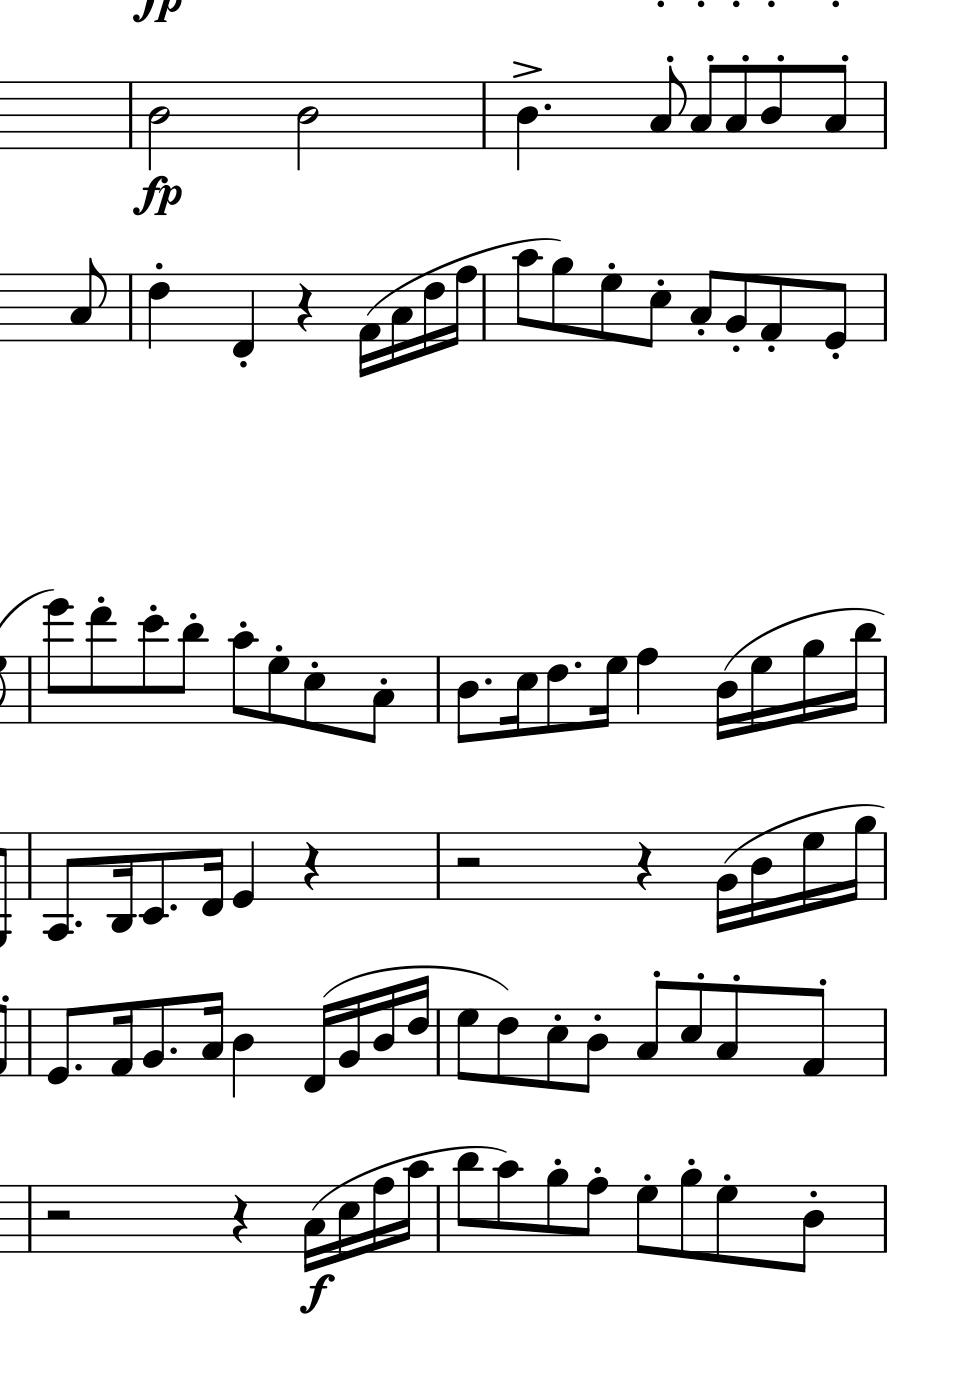16_-1: (301, 1001, 334, 1095), (199, 830, 224, 920)
16_-3: (107, 831, 135, 934)
16_1: (356, 271, 381, 379), (109, 1001, 134, 1080)
16_10: (398, 1158, 433, 1256)
16_11: (842, 621, 878, 727)
16_2: (713, 831, 737, 933), (336, 996, 362, 1078)
16_3: (388, 271, 413, 367), (199, 990, 224, 1077), (301, 1185, 325, 1271)
16_4: (747, 830, 772, 926), (371, 984, 396, 1078), (714, 655, 738, 741)
16_5: (501, 655, 537, 738), (336, 1185, 360, 1262)
16_6: (406, 975, 430, 1078), (421, 271, 445, 355)
16_7: (589, 654, 628, 729), (799, 830, 824, 915), (747, 653, 772, 736)
16_8: (448, 265, 477, 348), (370, 1176, 393, 1255)
16_9: (844, 814, 876, 903), (799, 637, 823, 726)
2_4: (145, 78, 172, 172), (295, 80, 319, 171)
4_-1: (230, 271, 255, 359)
4_0: (231, 831, 256, 910)
4_4: (513, 80, 539, 174), (230, 1008, 253, 1098)
4_6: (145, 273, 171, 351)
4_8: (634, 647, 658, 725)
8_-2: (139, 830, 167, 926)
8_-4: (42, 829, 76, 942)
8_0: (45, 1006, 78, 1087), (821, 273, 848, 352)
8_1: (799, 986, 825, 1078), (757, 271, 784, 344)
8_10: (493, 1160, 523, 1255), (512, 248, 541, 344), (229, 630, 257, 726)
8_11: (174, 621, 207, 725), (452, 1150, 483, 1255)
8_12: (139, 614, 168, 726)
8_13: (86, 606, 115, 726)
8_14: (42, 596, 71, 726)
8_2: (140, 996, 167, 1077), (723, 271, 748, 343)
8_3: (69, 256, 108, 343), (633, 980, 667, 1078), (648, 66, 685, 151), (360, 654, 393, 745), (688, 63, 719, 151), (714, 983, 740, 1078), (723, 63, 749, 152), (688, 268, 718, 343), (823, 63, 847, 151)
8_4: (791, 1185, 824, 1275), (577, 1008, 609, 1096), (759, 63, 785, 151), (455, 655, 479, 745)
8_5: (641, 271, 672, 350), (678, 981, 703, 1078), (544, 1008, 568, 1092), (300, 655, 326, 732)
8_6: (494, 1007, 519, 1087), (545, 655, 568, 736)
8_7: (712, 1185, 739, 1264), (596, 271, 623, 343), (455, 1007, 479, 1083), (264, 655, 290, 726), (633, 1183, 658, 1257)
8_8: (578, 1175, 608, 1255)
8_9: (677, 1166, 702, 1260), (548, 256, 574, 344), (544, 1168, 568, 1255)
Accent_above: (511, 58, 543, 80)
Rests2: (452, 853, 484, 872), (42, 1207, 74, 1225)
Rests4: (294, 280, 315, 334), (301, 840, 322, 893), (230, 1192, 250, 1245), (634, 840, 654, 892)
Single_barline: (475, 83, 493, 148), (876, 1008, 893, 1076), (20, 1185, 37, 1252), (430, 1185, 447, 1252), (122, 82, 139, 148), (122, 274, 139, 340), (430, 657, 447, 723), (430, 834, 447, 899), (476, 273, 492, 343), (877, 81, 893, 150), (22, 1008, 38, 1077), (431, 1008, 447, 1077), (21, 657, 37, 723), (877, 655, 892, 725), (877, 832, 892, 901), (877, 274, 892, 341), (877, 1185, 892, 1252), (21, 834, 36, 900)
dot: (167, 1043, 181, 1058), (540, 100, 554, 115), (571, 657, 584, 671), (167, 901, 180, 914), (72, 917, 84, 930), (482, 676, 493, 687), (72, 1062, 84, 1073)
f: (298, 1271, 334, 1315)
fp: (132, 173, 181, 220)
